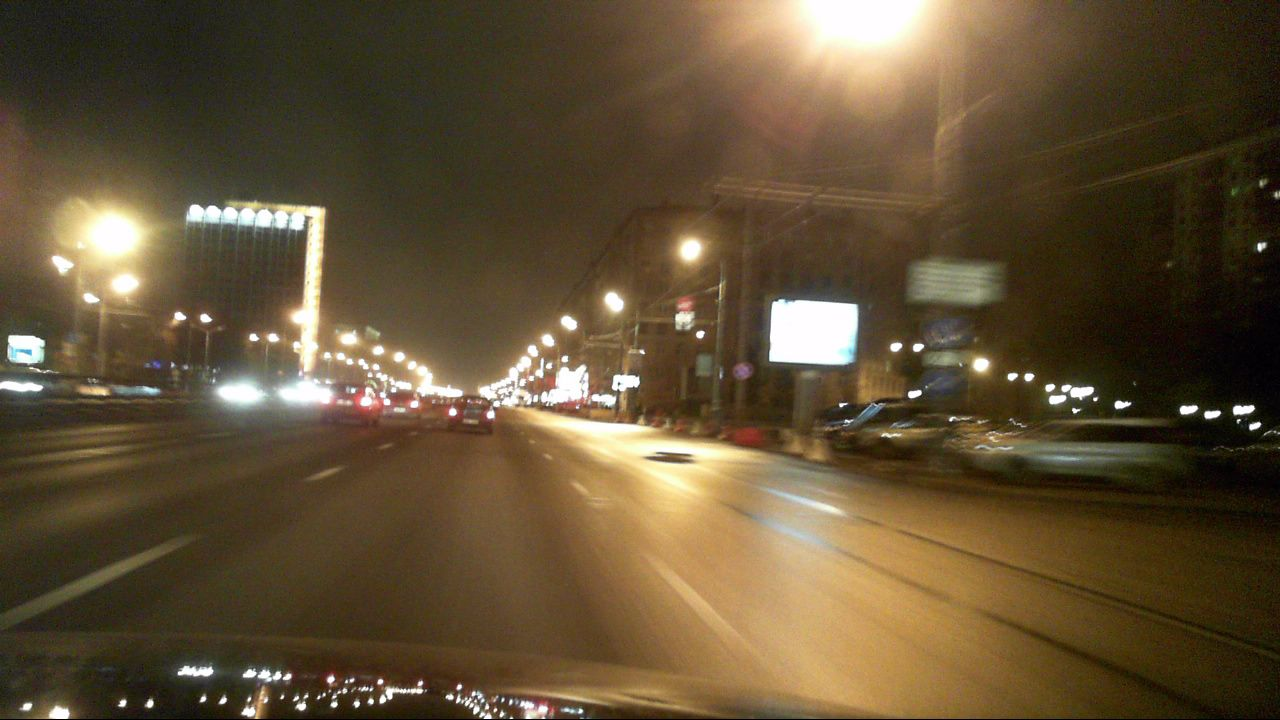No Parking: (733, 361, 753, 381)
